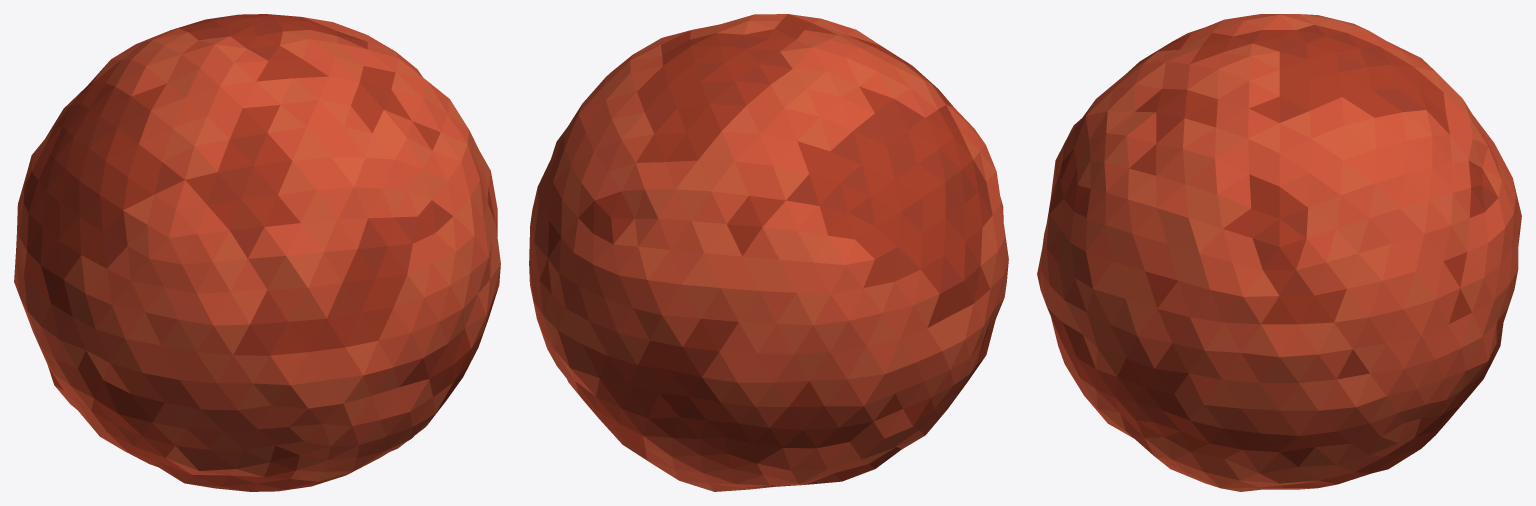
The model's file is MarsLowPoly.fbx.
3 views of the same model, side by side, from view 1: azimuth 30°, elevation 25°; view 2: azimuth 150°, elevation 25°; view 3: azimuth 270°, elevation 25° (orthographic).
Visible parts, largest first — view 1: Icosphere; view 2: Icosphere; view 3: Icosphere.
Part boxes in pixels (bbox=[...]): Icosphere: bbox=[14, 14, 500, 491]; Icosphere: bbox=[529, 14, 1008, 491]; Icosphere: bbox=[1037, 14, 1521, 491].
Bounding box in the file's own units: 1001 × 993 × 1003.
